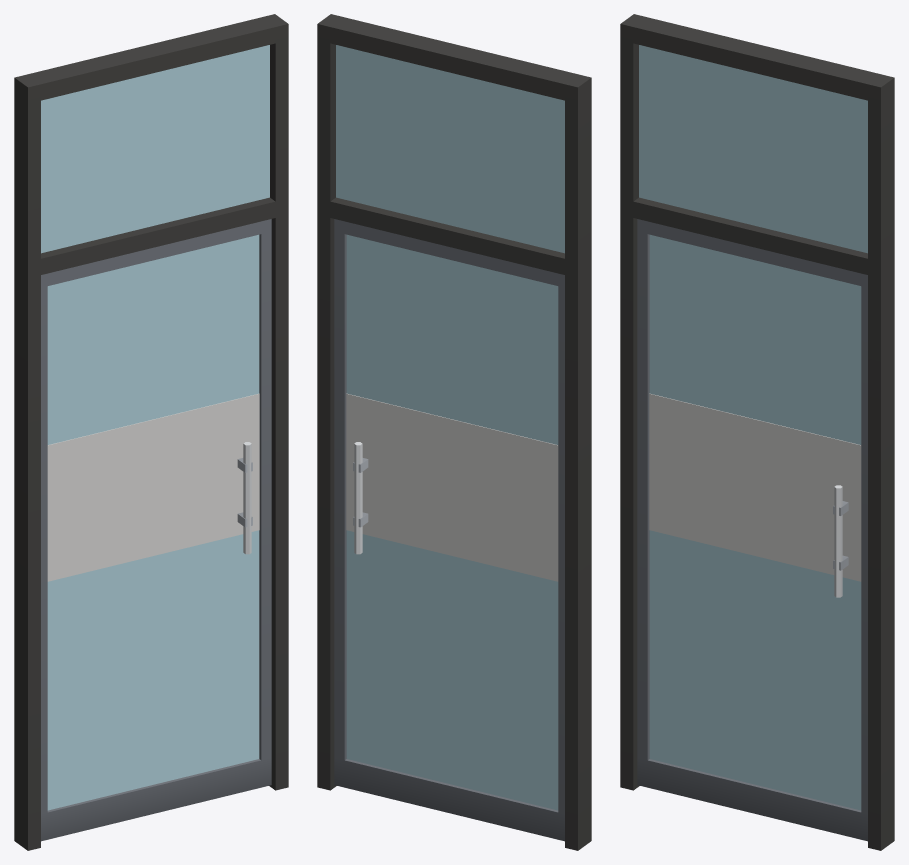
Rendered from office_glass_door_01.glb.
3 renders of one model, left to right at view 1: azimuth 30°, elevation 25°; view 2: azimuth 150°, elevation 25°; view 3: azimuth 330°, elevation 25°, orthographic.
Parts seen in each view (by area): view 1: office_glass_door_01_door_glass_mesh, office_glass_door_01_mesh, office_glass_door_01_glass, office_glass_door_01_door_mesh; view 2: office_glass_door_01_door_glass_mesh, office_glass_door_01_mesh, office_glass_door_01_glass, office_glass_door_01_door_mesh; view 3: office_glass_door_01_door_glass_mesh, office_glass_door_01_mesh, office_glass_door_01_glass, office_glass_door_01_door_mesh.
Part boxes in pixels (x1,y1,x2,y2): office_glass_door_01_door_glass_mesh: (47,234,259,810); office_glass_door_01_mesh: (14,14,288,850); office_glass_door_01_glass: (41,45,269,253); office_glass_door_01_door_mesh: (41,219,271,841); office_glass_door_01_door_glass_mesh: (346,234,558,810); office_glass_door_01_mesh: (317,14,591,850); office_glass_door_01_glass: (336,45,564,253); office_glass_door_01_door_mesh: (334,219,564,841); office_glass_door_01_door_glass_mesh: (649,234,861,810); office_glass_door_01_mesh: (620,14,894,850); office_glass_door_01_glass: (639,45,867,253); office_glass_door_01_door_mesh: (637,219,867,841).
Bounding box in the file's own units: 1 × 2.8 × 0.128.
2 materials, 2 textured.
